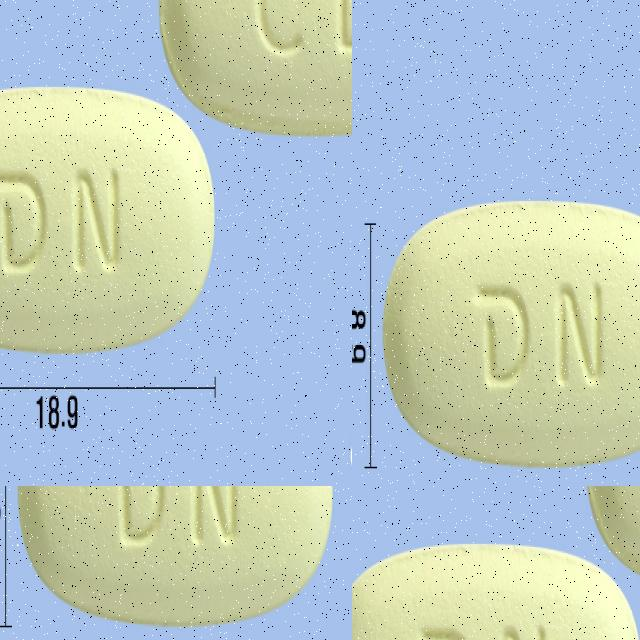Celltrion Clarithromycin - 500mg: (381, 192, 640, 472)
Ciproxin: (144, 486, 352, 640)
Clamacin: (352, 535, 640, 640)
Craproxin: (40, 177, 202, 470)
